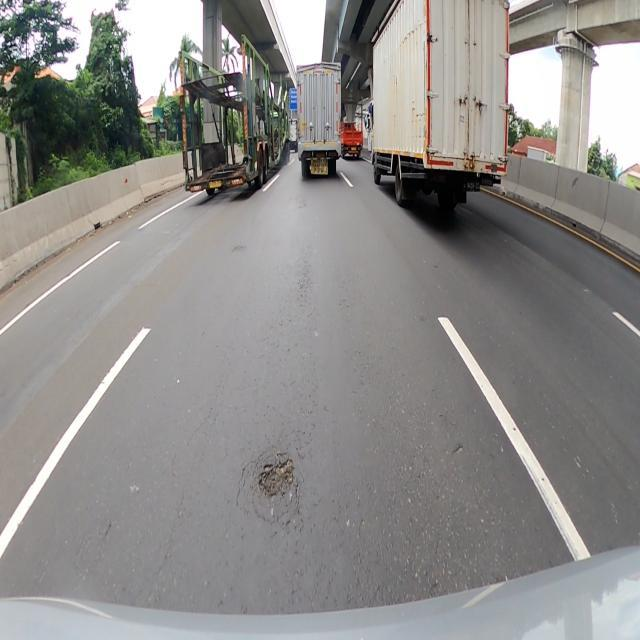Buraco: (254, 456, 298, 500)
